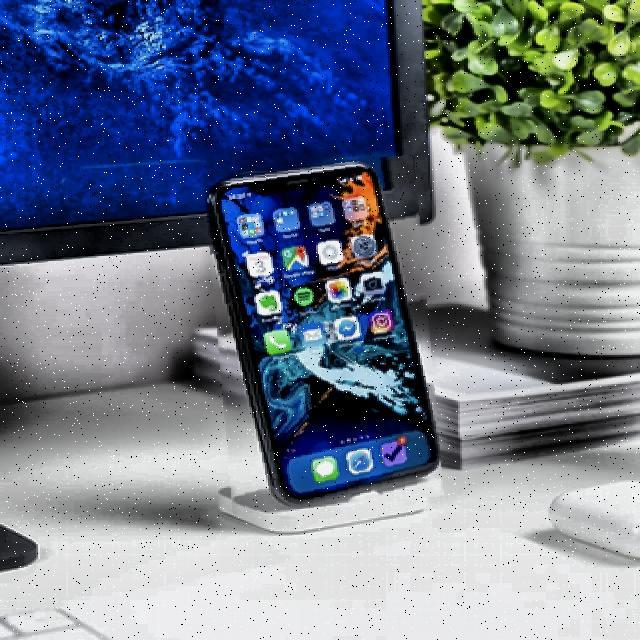Phone: (211, 159, 437, 510)
